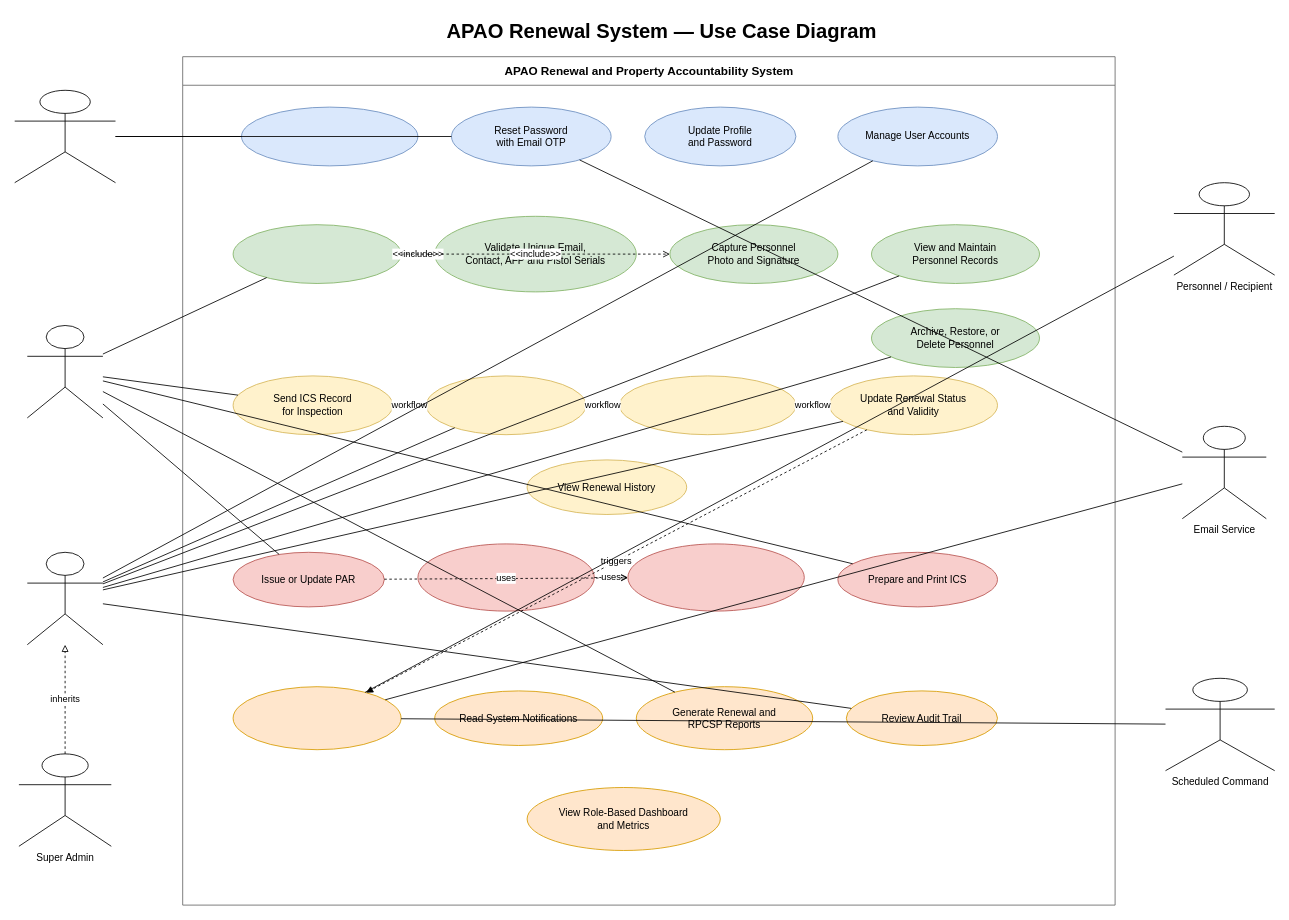
This 1289x920 diagram has some shape labels left out. Here are the shapes that lost their labels. From the top down, the centre of each, then its label:
At point (65, 136): "Unauthenticated User".
At point (329, 136): "Secure Login (CAPTCHA + rate limiting)".
At point (316, 254): "Register Personnel and Firearm".
At point (64, 371): "Staff".
At point (505, 405): "Complete Firearm Parts Inspection".
At point (707, 405): "Approve or Flag Repair / Replacement".
At point (505, 577): "Replace PAR and Retain Predecessor Link".
At point (715, 577): "View, Print, or Export PAR Document".
At point (64, 598): "Admin".
At point (316, 718): "Send Renewal and Status Notifications".
